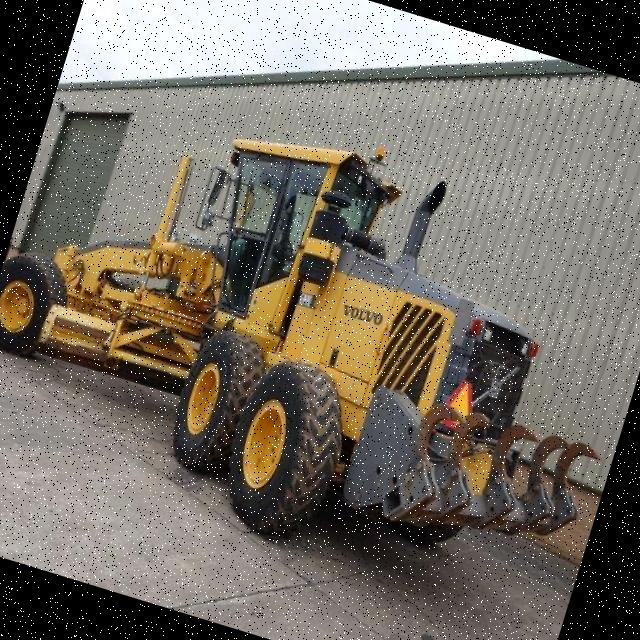Grader: (0, 51, 640, 622)
